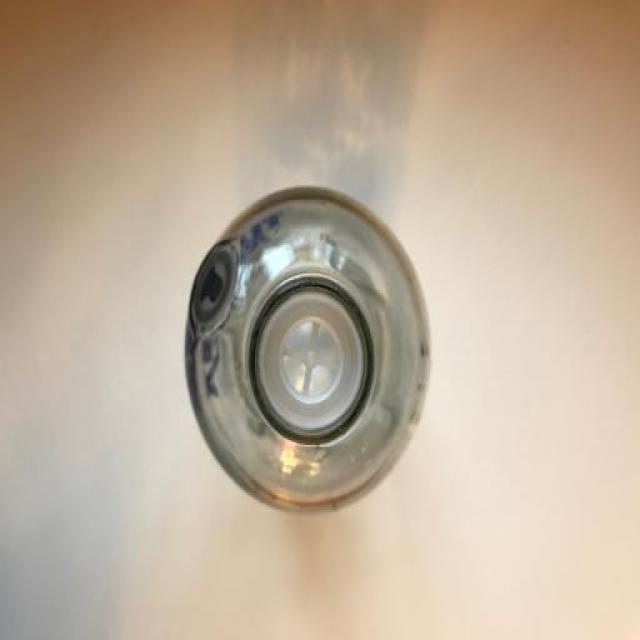glass: (185, 184, 431, 518)
